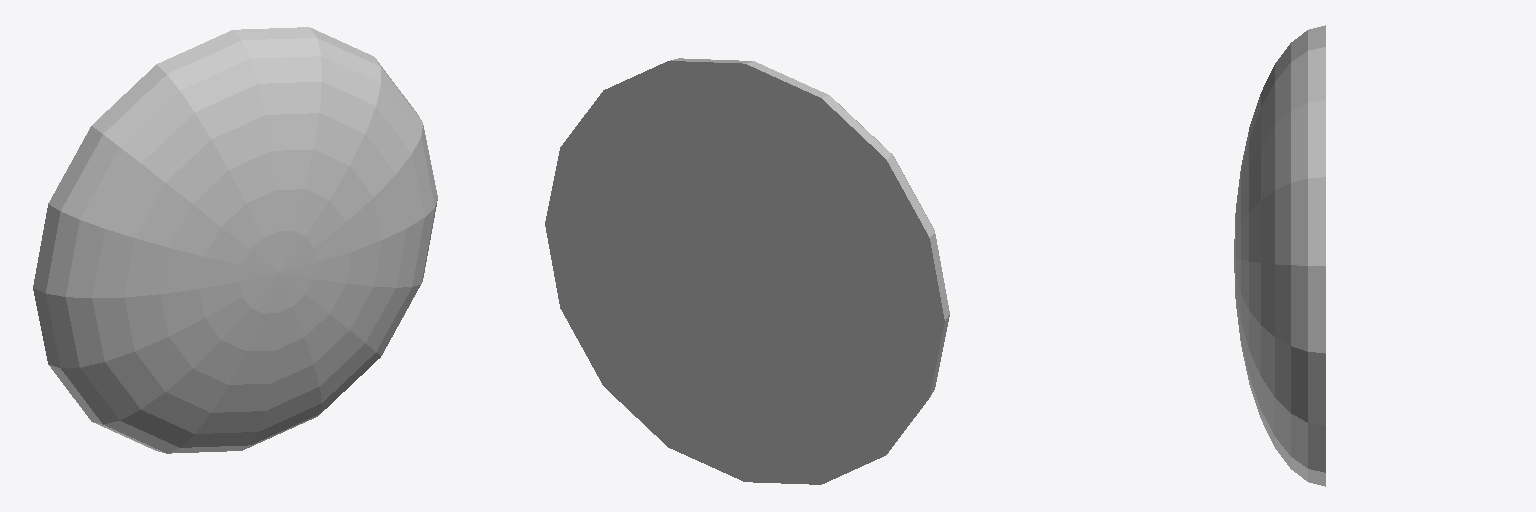
The model's file is bounce.obj.
The picture shows the model from 3 angles: view 1: azimuth 30°, elevation 25°; view 2: azimuth 150°, elevation 25°; view 3: azimuth 270°, elevation 25°; orthographic projection.
Parts seen in each view (by area): view 1: Sphere; view 2: Sphere; view 3: Sphere.
Boxes of the visible parts, x1=… form: Sphere: x1=33, y1=27, x2=437, y2=453; Sphere: x1=545, y1=58, x2=949, y2=484; Sphere: x1=1234, y1=25, x2=1325, y2=486.
Size of the model in its own units: 1 by 1 by 0.2.